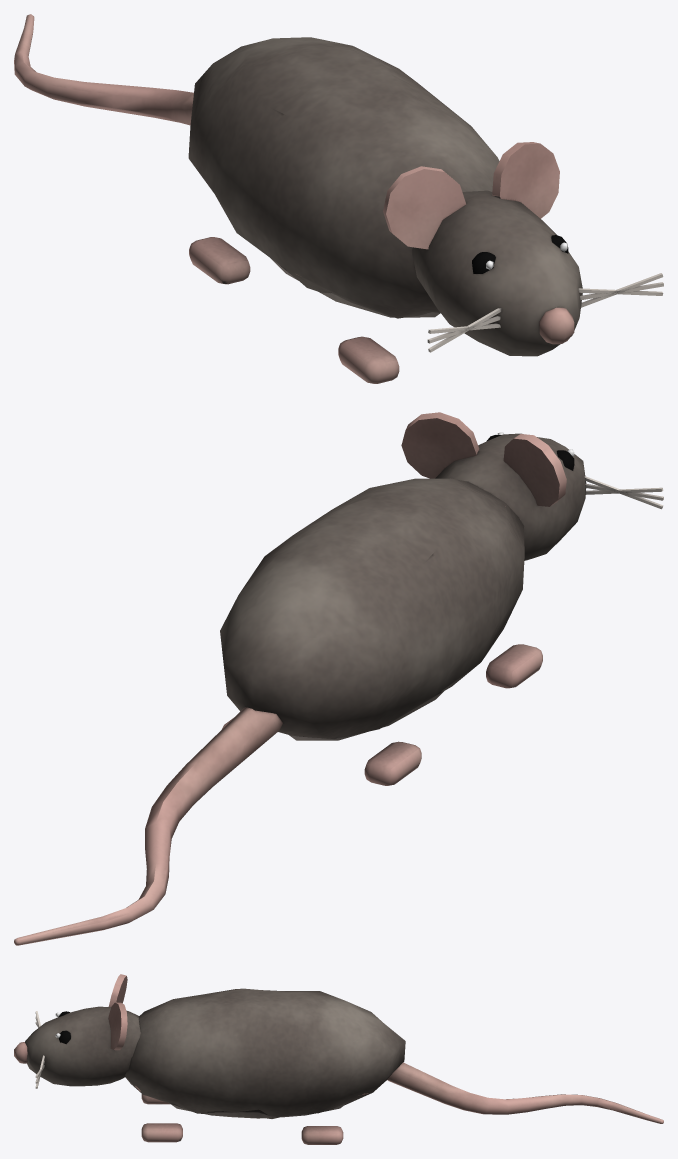
File: rat.fbx
3 renders of one model, top to bottom at view 1: azimuth 30°, elevation 25°; view 2: azimuth 150°, elevation 25°; view 3: azimuth 270°, elevation 25°, orthographic. The views are drawn at different scales.
Parts seen in each view (by area): view 1: Body, Head; view 2: Body, Head; view 3: Body, Head.
Part boxes in pixels (x1=…): Body: x1=14, y1=14, x2=499, y2=383; Head: x1=383, y1=142, x2=663, y2=356; Body: x1=14, y1=478, x2=542, y2=945; Head: x1=401, y1=412, x2=663, y2=560; Body: x1=125, y1=988, x2=663, y2=1144; Head: x1=14, y1=974, x2=140, y2=1088.
Bounding box in the file's own units: 0.4869 × 0.4506 × 2.03.
Materials: 1 (1 with a texture image).
